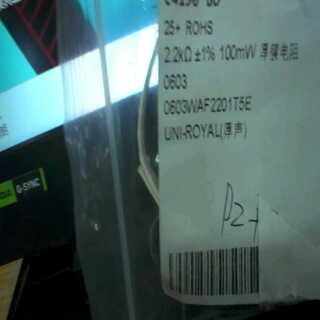2.2kR: (159, 43, 191, 66)
